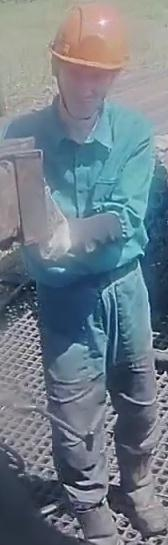gloves: (37, 184, 73, 266)
helmet: (42, 3, 135, 72)
vest: (0, 102, 159, 306)
